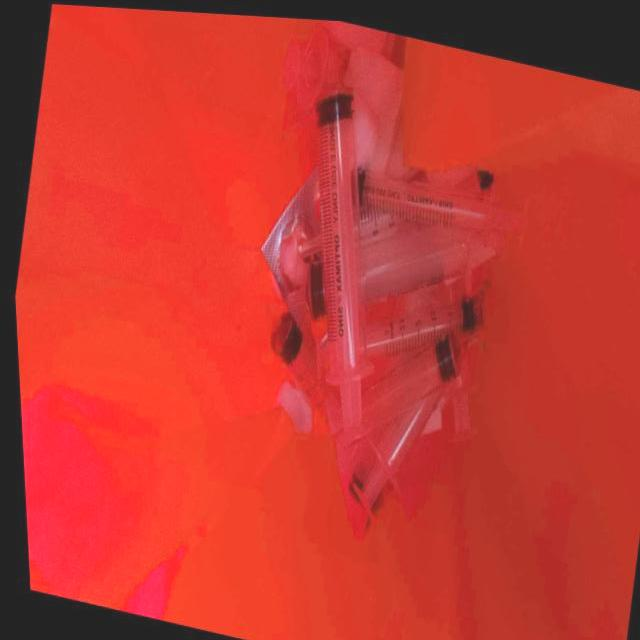General: (257, 86, 519, 538)
